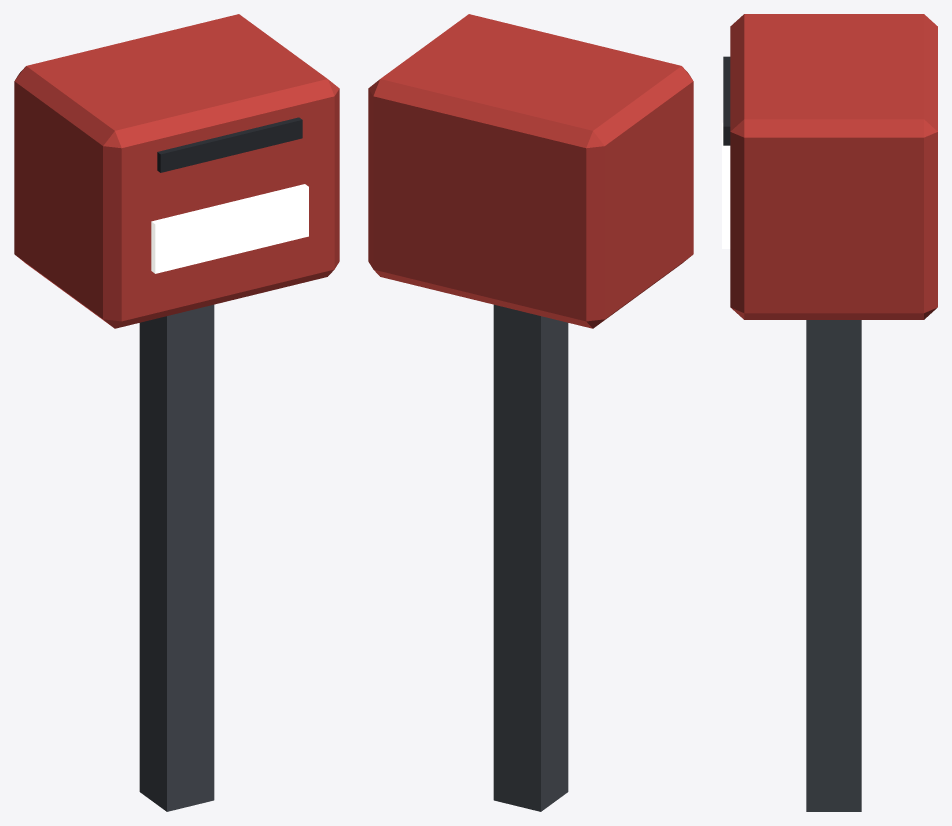
File: complaint_box.glb
3 renders of one model, left to right at view 1: azimuth 30°, elevation 25°; view 2: azimuth 150°, elevation 25°; view 3: azimuth 270°, elevation 25°, orthographic.
Parts seen in each view (by area): view 1: complaint_box_mesh; view 2: complaint_box_mesh; view 3: complaint_box_mesh.
Boxes of the visible parts, x1,y1,x2,y2 form: complaint_box_mesh: (14,14,339,811); complaint_box_mesh: (368,14,693,811); complaint_box_mesh: (722,14,937,811).
Size of the model in its own units: 0.4 by 1.17 by 0.312.
